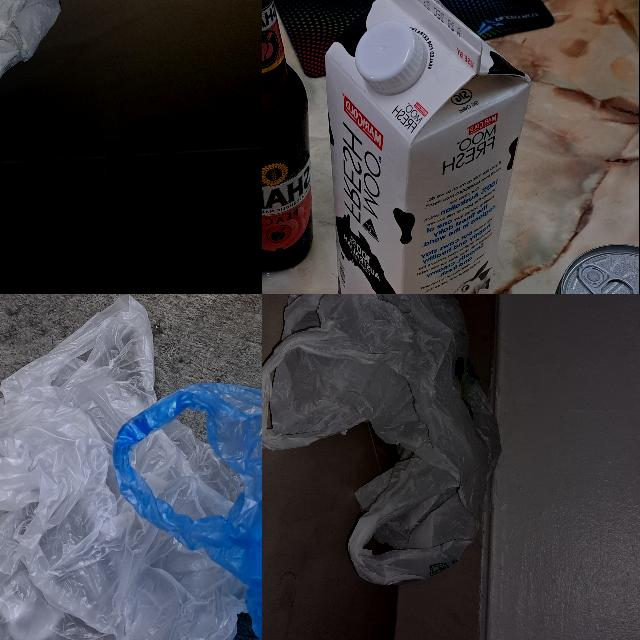aba de lata: (578, 262, 637, 294)
caixinha: (326, 0, 533, 294)
garrafa de vidro: (262, 0, 310, 273)
lata: (524, 244, 639, 294)
sacola plástica: (0, 294, 258, 640), (262, 294, 501, 586), (113, 308, 262, 640)
tampa plástica: (356, 19, 422, 92)
